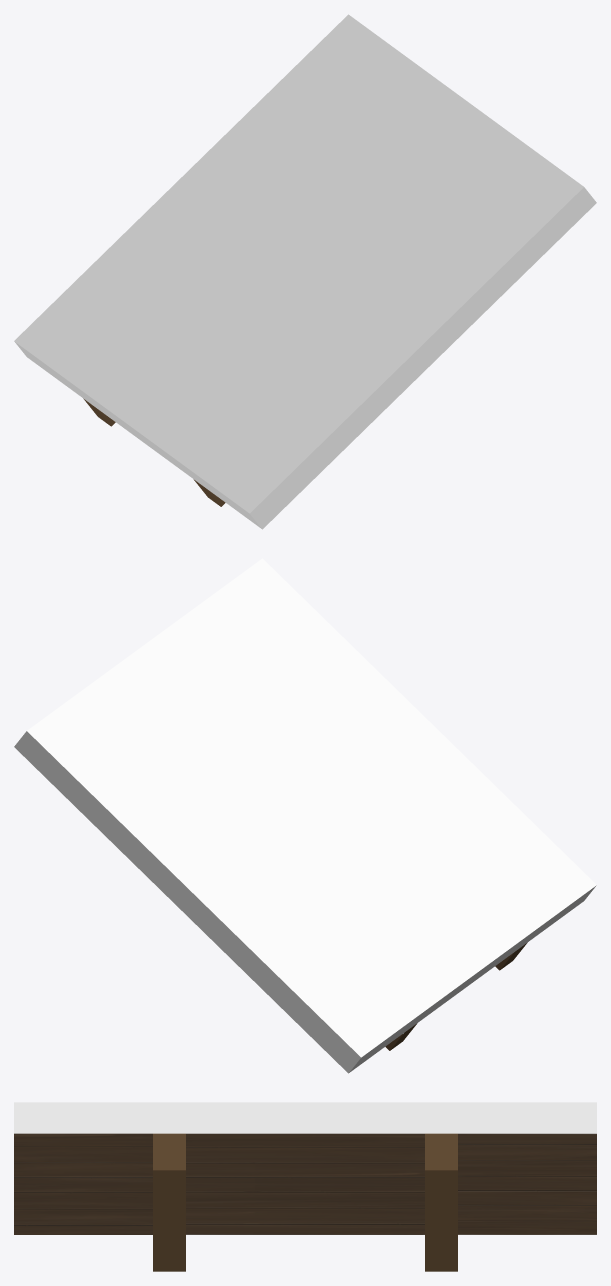
File: Attic_Roof.fbx
3 renders of one model, top to bottom at view 1: azimuth 30°, elevation 25°; view 2: azimuth 150°, elevation 25°; view 3: azimuth 270°, elevation 25°, orthographic. The views are drawn at different scales.
Parts seen in each view (by area): view 1: pCube17; view 2: pCube17; view 3: pCube17.
Boxes of the visible parts, left/top/right/bottom form: pCube17: left=14, top=14, right=596, bottom=529; pCube17: left=14, top=558, right=596, bottom=1073; pCube17: left=14, top=1102, right=596, bottom=1271.
Bounding box in the file's own units: 2.66 × 2.01 × 3.
